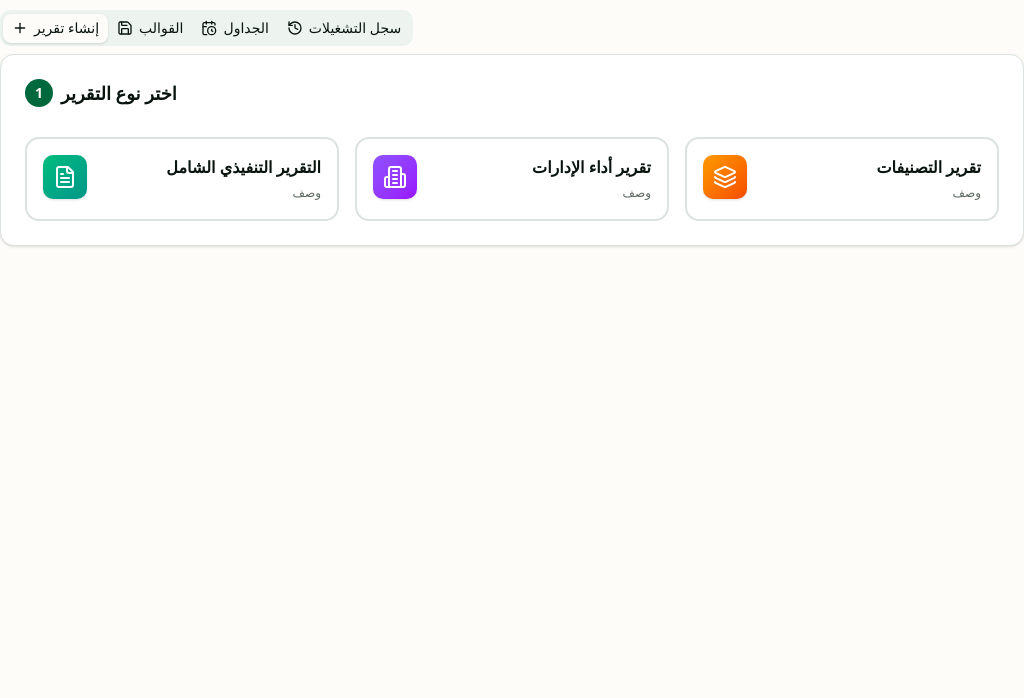
Test case: ReportsCenter › sends the selected mode in preview and presents the four-page reference preview
Click the heading "التقرير التنفيذي الشامل" at (244, 167), box [166,156,321,178]
(page scrolled)
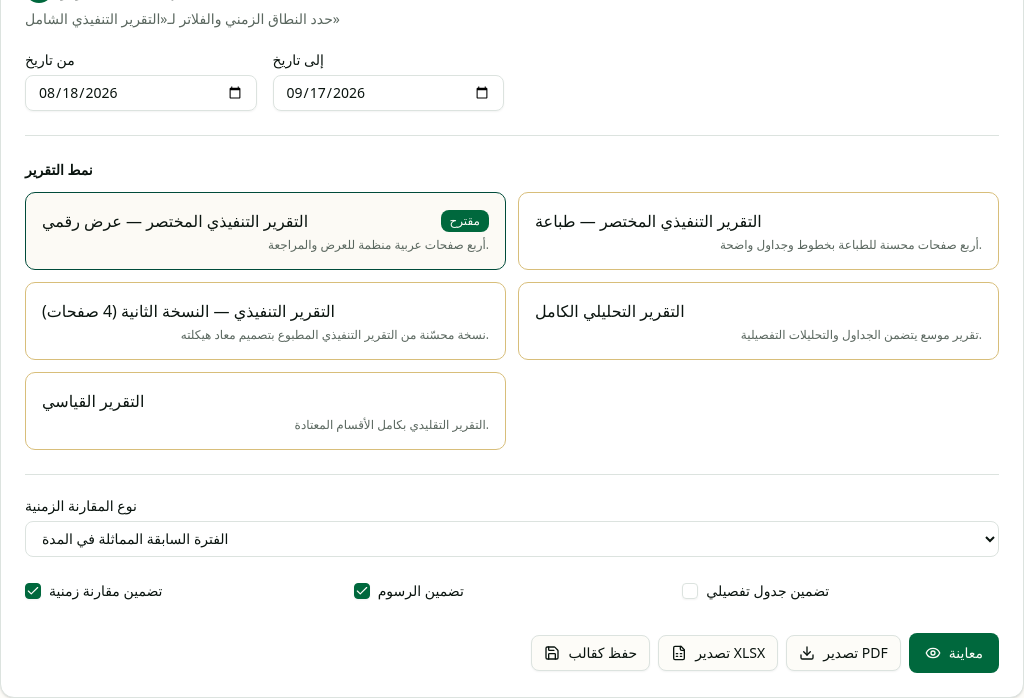
Click the button "معاينة" at (954, 652), box [909,632,999,672]
(page scrolled)
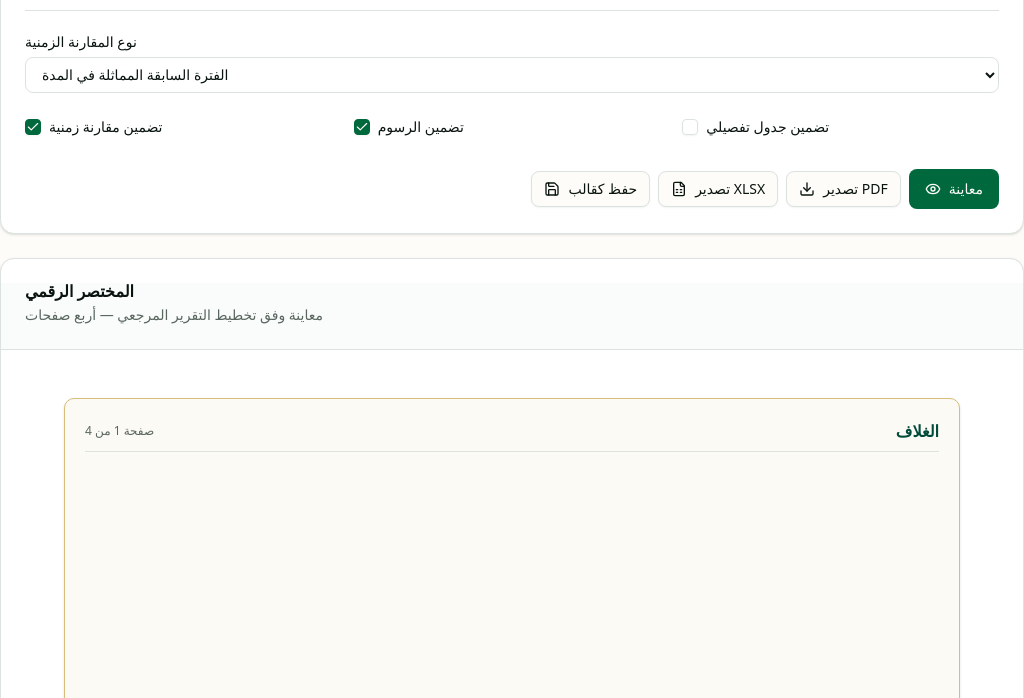
expect the text "معاينة وفق تخطيط التقرير المرجعي — أربع صفحات" is shown: met, box [25,304,323,324]
expect the number of elements labelled "صفحة 1 من 4" is 4: met
